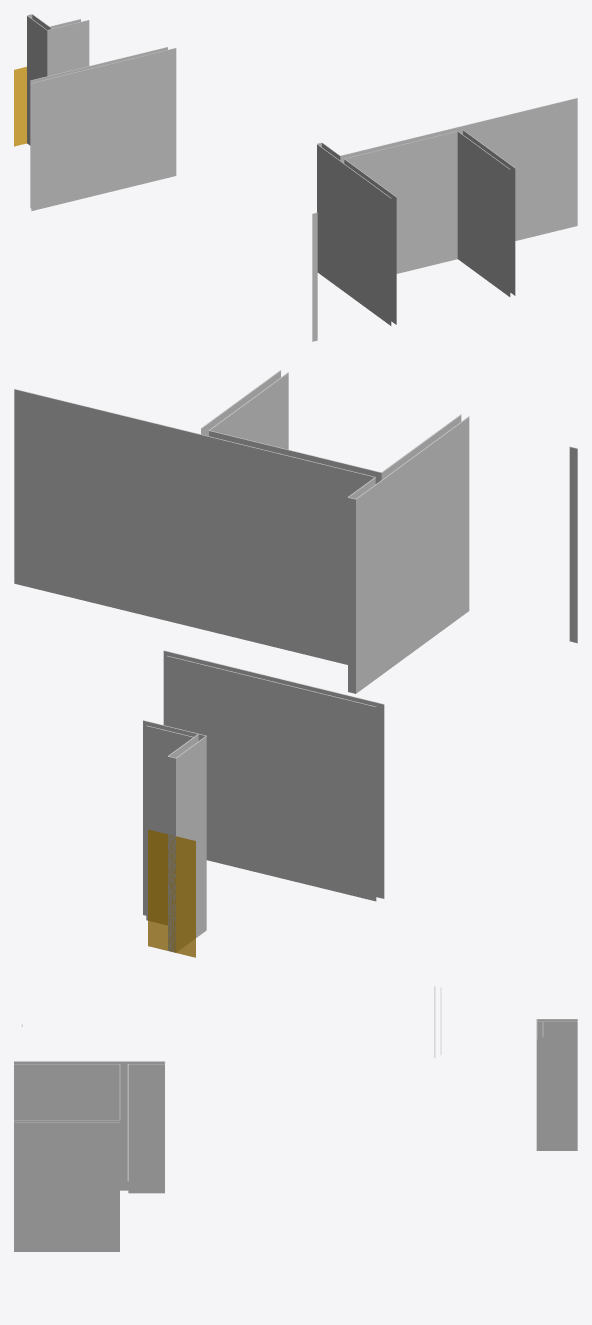
Rendered from 494168ba-8285-4fa6-9559-fdffea978d38.glb.
3 views of the same model, one above another, from view 1: azimuth 30°, elevation 25°; view 2: azimuth 150°, elevation 25°; view 3: azimuth 270°, elevation 25° (orthographic). The views are drawn at different scales.
Visible parts, largest first — view 1: walls, roof, doors; view 2: walls, doors, roof; view 3: walls, roof.
Boxes of the visible parts, x1,y1,x2,y2 form: walls: (27, 14, 577, 341); roof: (27, 14, 577, 213); doors: (14, 66, 26, 146); walls: (14, 371, 577, 952); doors: (148, 829, 195, 957); roof: (14, 370, 577, 758); walls: (14, 1019, 577, 1251); roof: (14, 986, 577, 1181).
Size of the model in its own units: 11.3 by 3.5 by 13.83.
